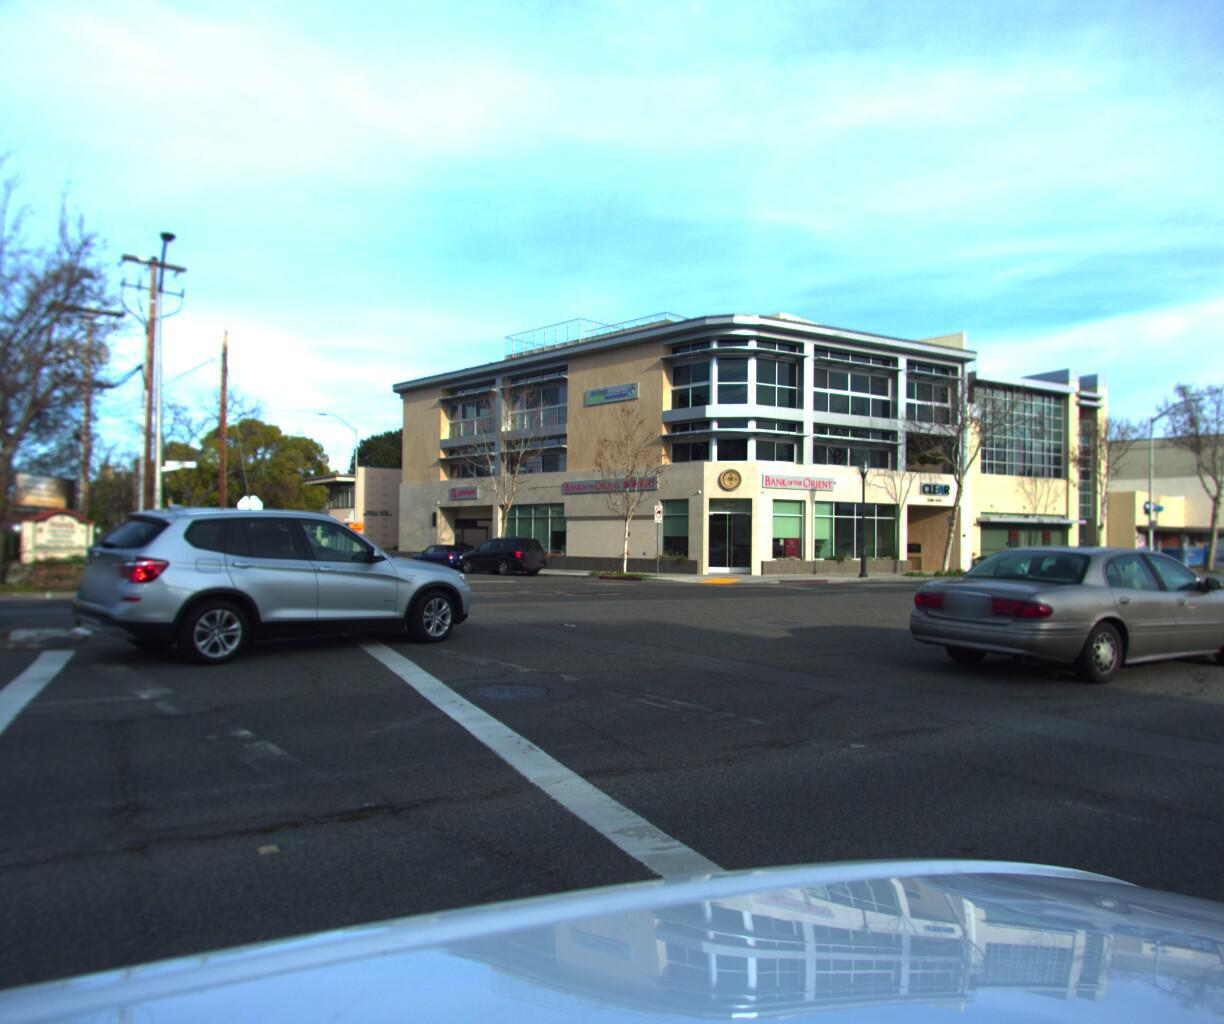car: (63, 498, 478, 680), (884, 543, 1224, 707), (458, 533, 554, 576), (982, 544, 1081, 578), (401, 537, 481, 573)
